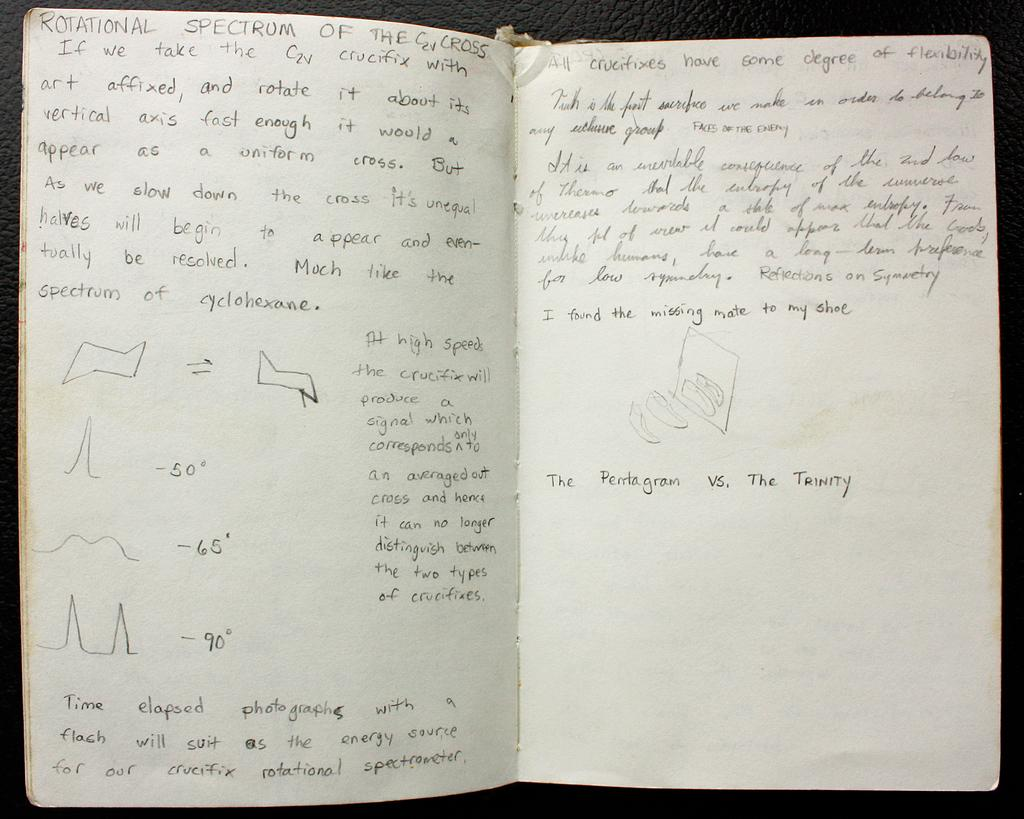book: (54, 0, 1020, 772)
